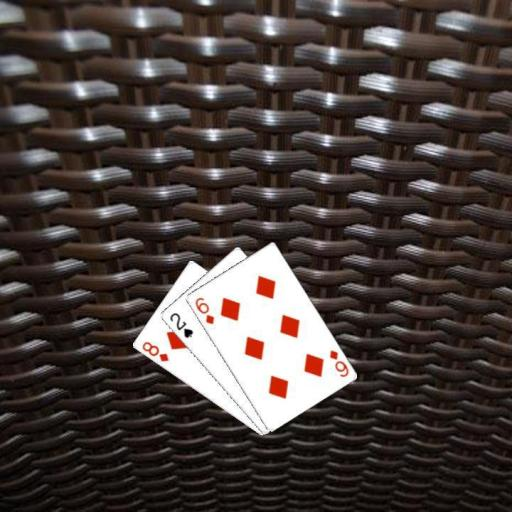card-corner: (167, 310, 194, 340), (139, 338, 170, 364), (326, 346, 350, 378), (192, 294, 215, 326)
